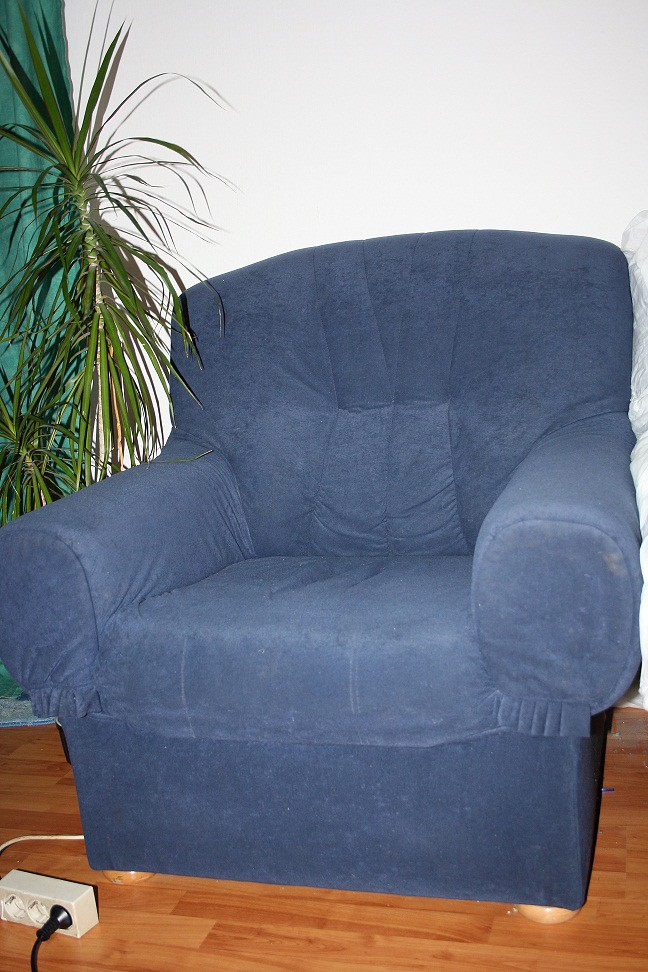sofa: (1, 228, 631, 893)
